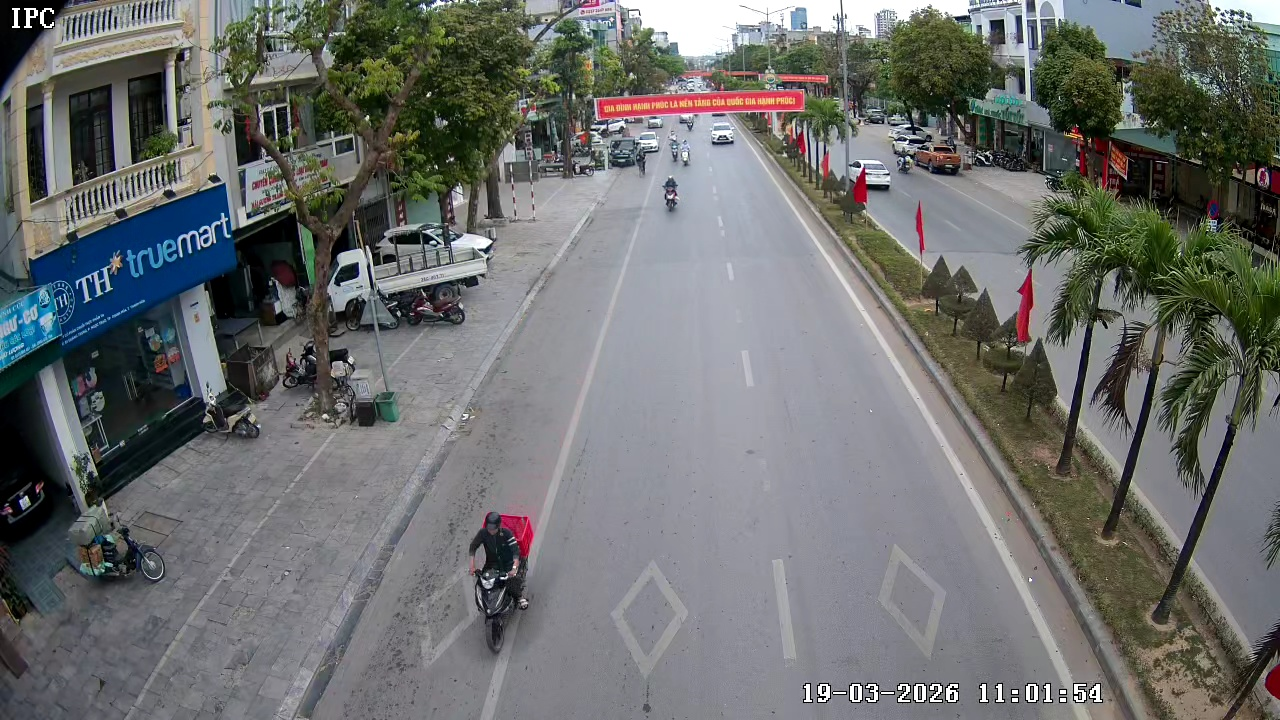car: (710, 122, 736, 145)
motorbike: (466, 510, 534, 656), (70, 500, 168, 585), (661, 173, 681, 214), (670, 134, 690, 168), (637, 143, 651, 175)
truck: (609, 132, 642, 170)
